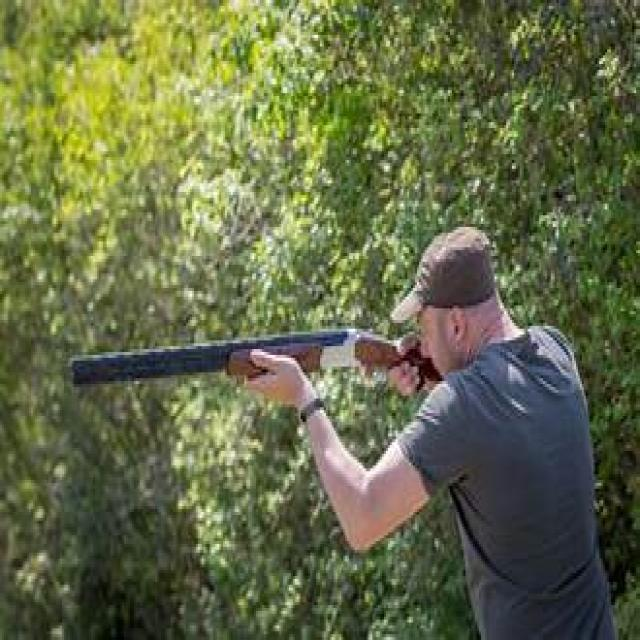Rifle: (65, 308, 448, 448)
